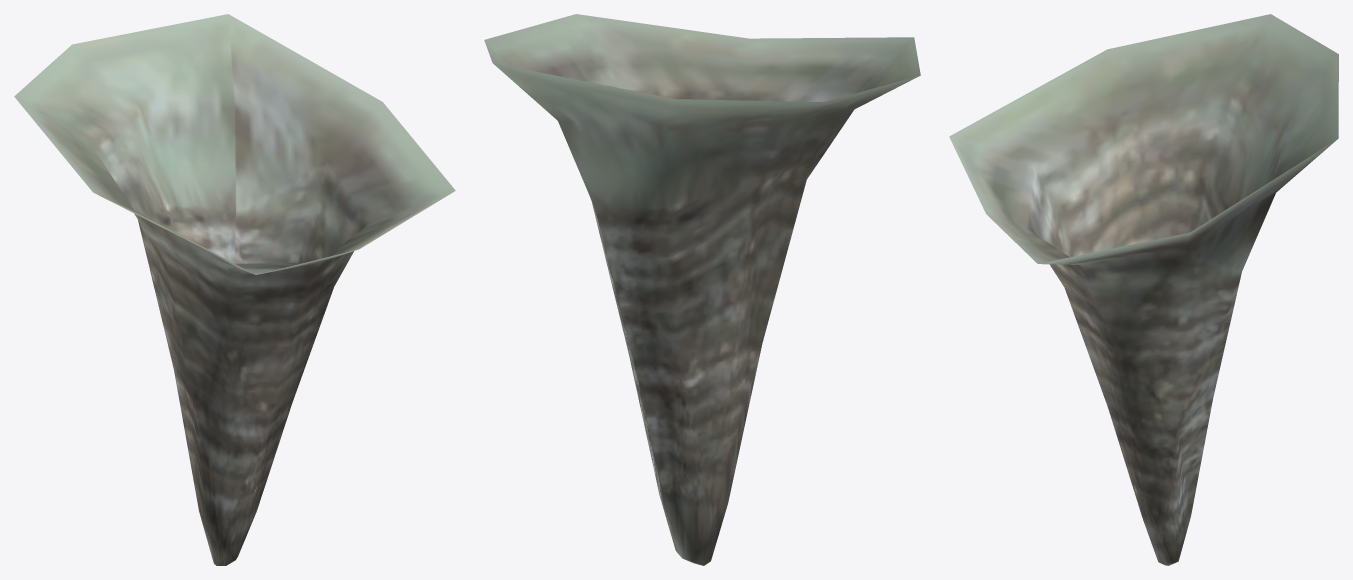
The model's file is TROLLHOLE02_PS-UPPERSTALAG19.fbx.
3 views of the same model, side by side, from view 1: azimuth 30°, elevation 25°; view 2: azimuth 150°, elevation 25°; view 3: azimuth 270°, elevation 25° (orthographic). The views are drawn at different scales.
Parts seen in each view (by area): view 1: TROLLHOLE02_PS-UPPERSTALAG19; view 2: TROLLHOLE02_PS-UPPERSTALAG19; view 3: TROLLHOLE02_PS-UPPERSTALAG19.
Boxes of the visible parts, left/top/right/bottom form: TROLLHOLE02_PS-UPPERSTALAG19: left=14, top=14, right=455, bottom=565; TROLLHOLE02_PS-UPPERSTALAG19: left=484, top=14, right=920, bottom=565; TROLLHOLE02_PS-UPPERSTALAG19: left=949, top=14, right=1338, bottom=565.
Bounding box in the file's own units: 13148 × 18005 × 13315.
Materials: 1 (1 with a texture image).
